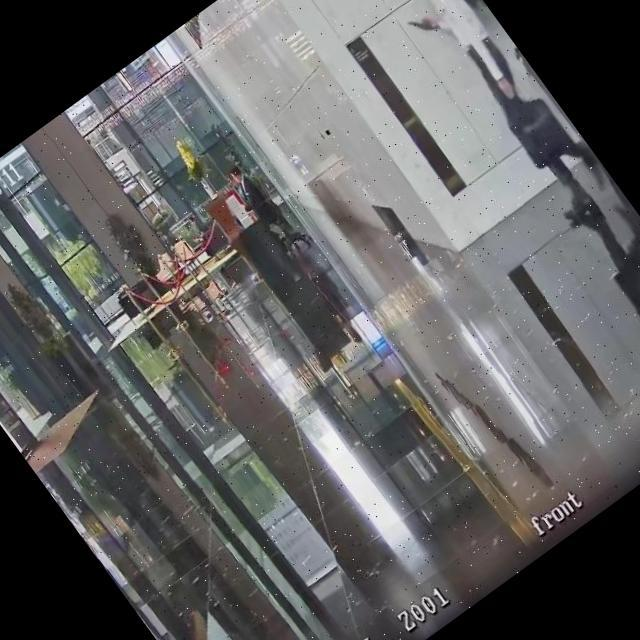person: (369, 0, 616, 233), (225, 160, 276, 220), (180, 211, 228, 265), (224, 169, 250, 200)
